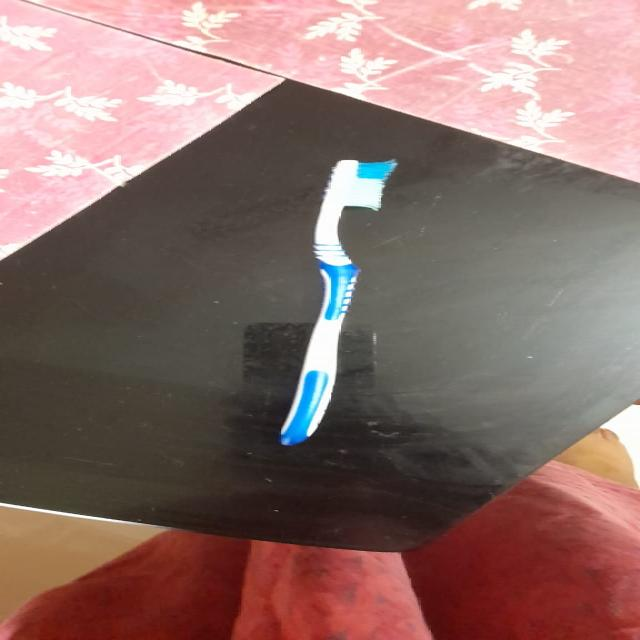Tooth_Brush - Non Recyclable: (239, 144, 452, 469)
